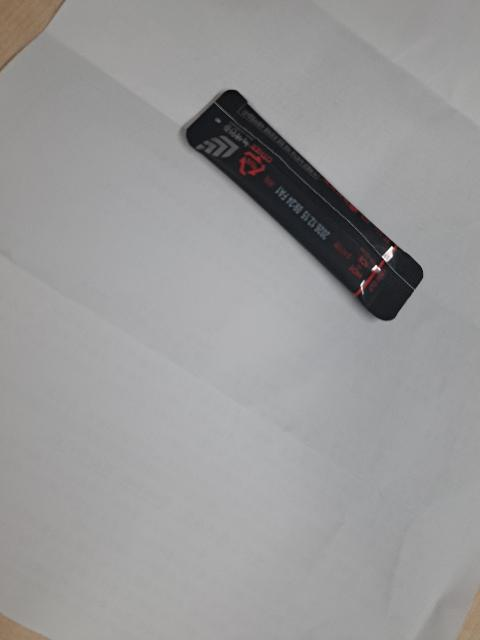KANU: (170, 77, 442, 352)
